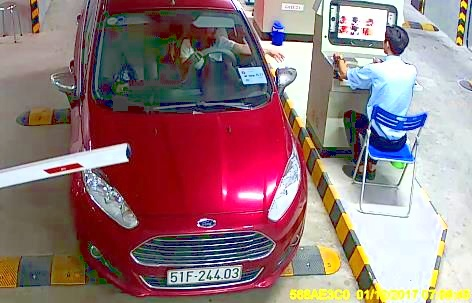plate: (163, 264, 239, 285)
